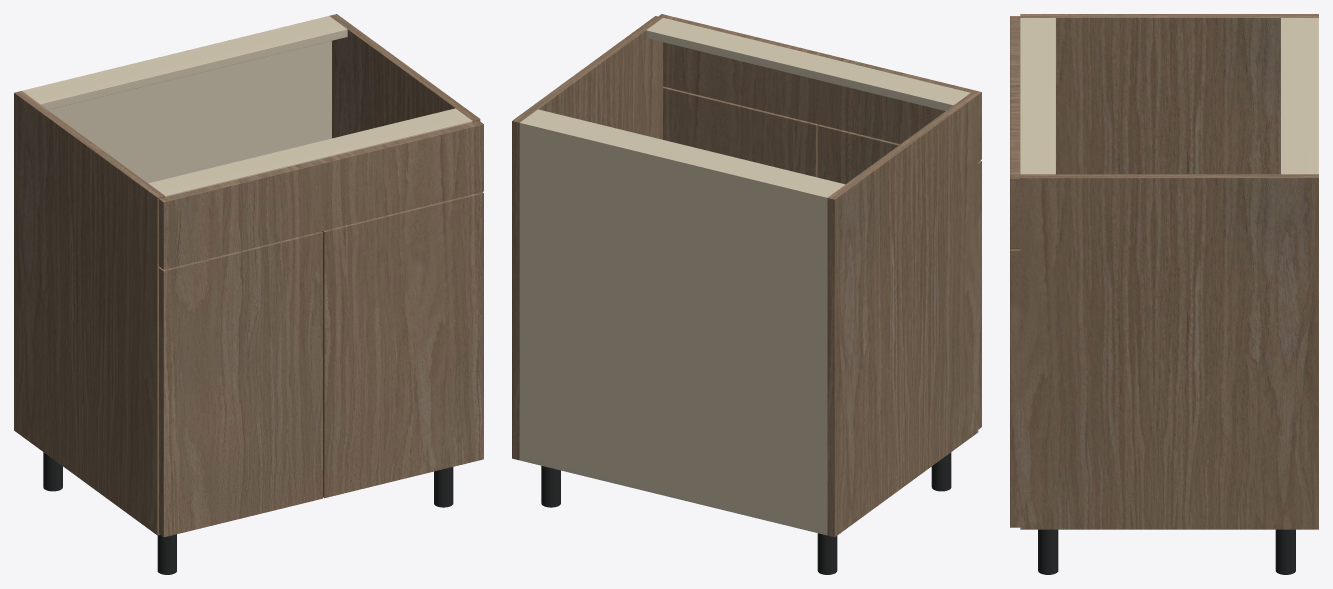
The model's file is oppein-ply-mnw-sb30.glb.
The picture shows the model from 3 angles, left to right: view 1: azimuth 30°, elevation 25°; view 2: azimuth 150°, elevation 25°; view 3: azimuth 270°, elevation 25°; orthographic projection. The views are drawn at different scales.
Visible parts, largest first — view 1: Cabinet side, Door, Door.001, Cabinet back, False drawer front, Cabinet side.001, Top support rail, Top support rail.001, Adjustable foot.001, Adjustable foot.003, Adjustable foot; view 2: Cabinet back, Cabinet side, False drawer front, Cabinet side.001, Door.001, Top support rail.001, Top support rail, Door, Cabinet bottom, Adjustable foot, Adjustable foot.002, Adjustable foot.001; view 3: Cabinet side.001, Cabinet side, Top support rail.001, Top support rail, Door.001, False drawer front, Adjustable foot.003, Adjustable foot.002, Cabinet back.
Part boxes in pixels (<box>): Cabinet side: <box>14,91,164,535</box>; Door: <box>159,231,322,537</box>; Door.001: <box>322,192,483,498</box>; Cabinet back: <box>22,16,331,183</box>; False drawer front: <box>159,120,483,269</box>; Cabinet side.001: <box>329,14,480,138</box>; Top support rail: <box>23,18,347,109</box>; Top support rail.001: <box>148,108,472,197</box>; Adjustable foot.001: <box>157,534,176,574</box>; Adjustable foot.003: <box>434,467,453,507</box>; Adjustable foot: <box>43,452,62,491</box>; Cabinet back: <box>519,120,829,535</box>; Cabinet side: <box>827,93,978,537</box>; False drawer front: <box>658,14,981,161</box>; Cabinet side.001: <box>512,16,662,460</box>; Door.001: <box>663,86,818,177</box>; Top support rail.001: <box>646,18,970,110</box>; Top support rail: <box>523,109,844,195</box>; Door: <box>817,124,981,429</box>; Cabinet bottom: <box>520,453,826,534</box>; Adjustable foot: <box>817,533,837,574</box>; Adjustable foot.002: <box>541,466,560,507</box>; Adjustable foot.001: <box>931,452,951,491</box>; Cabinet side.001: <box>1020,174,1318,529</box>; Cabinet side: <box>1020,14,1318,174</box>; Top support rail.001: <box>1020,18,1055,174</box>; Top support rail: <box>1280,18,1315,174</box>; Door.001: <box>1010,249,1020,527</box>; False drawer front: <box>1010,16,1020,248</box>; Adjustable foot.003: <box>1038,529,1058,574</box>; Adjustable foot.002: <box>1275,529,1295,574</box>; Cabinet back: <box>1313,18,1318,174</box>.
Size of the model in its own units: 0.762 by 0.8763 by 0.6064.
3 materials, 1 textured.
